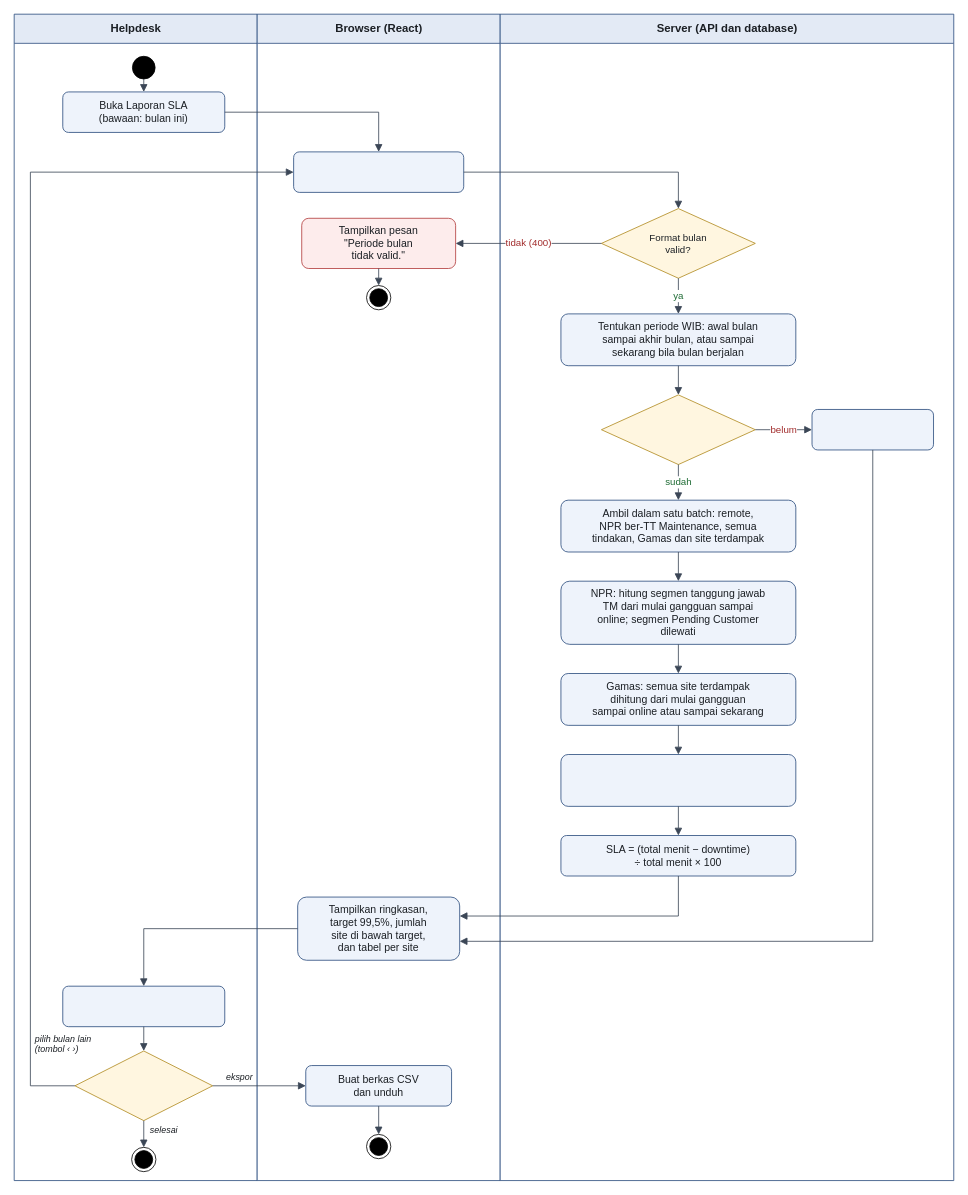
The diagram is 968 pixels wide and 1195 high, and some of its shapes have lost their labels. The centre of each missing label's shape, as x and y in pixels:
Cari, saring customer atau capaian, urutkan: the point at 143,1006
Kirim GET /api/sla?month=YYYY-MM: the point at 378,171
Langkah berikutnya?: the point at 143,1085
Periode sudah dimulai?: the point at 678,429
Potong interval ke periode, gabungkan interval yang tumpang tindih per remote: the point at 678,780
Semua site: total 0, SLA kosong: the point at 872,429
